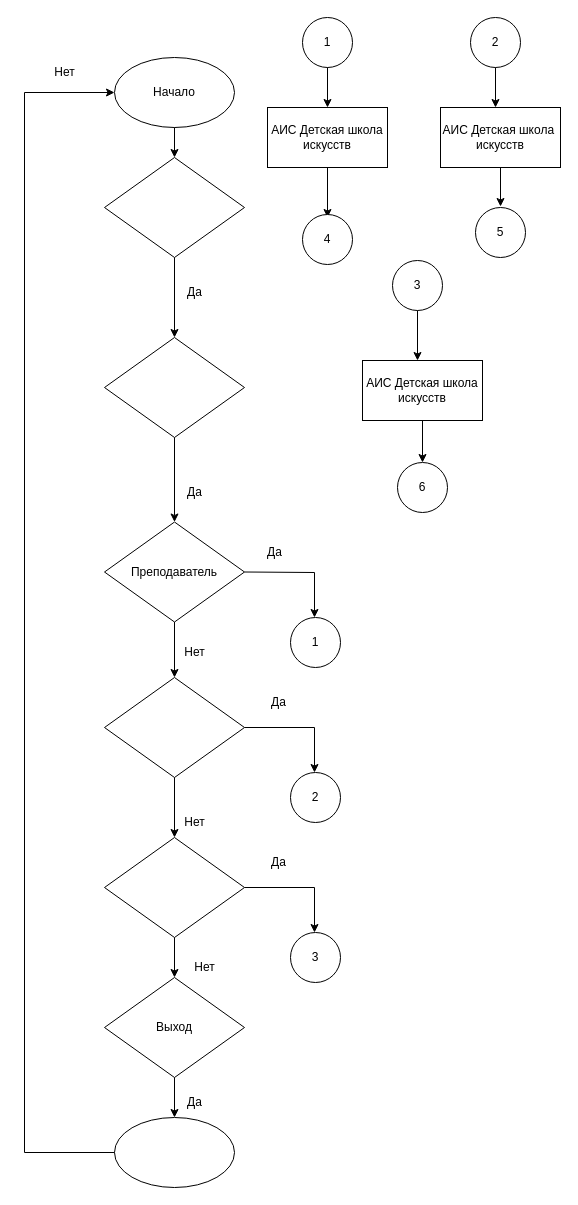
Some shapes in this 578 by 1205 pixel diagram are drawn without their labels. Here are the shapes that lost their labels. From the top down, the centre of each, then its label:
the point at 174,207: Стартовое меню
the point at 174,387: Авторизация
the point at 174,727: Студент
the point at 174,887: Администратор
the point at 174,1152: Конец
